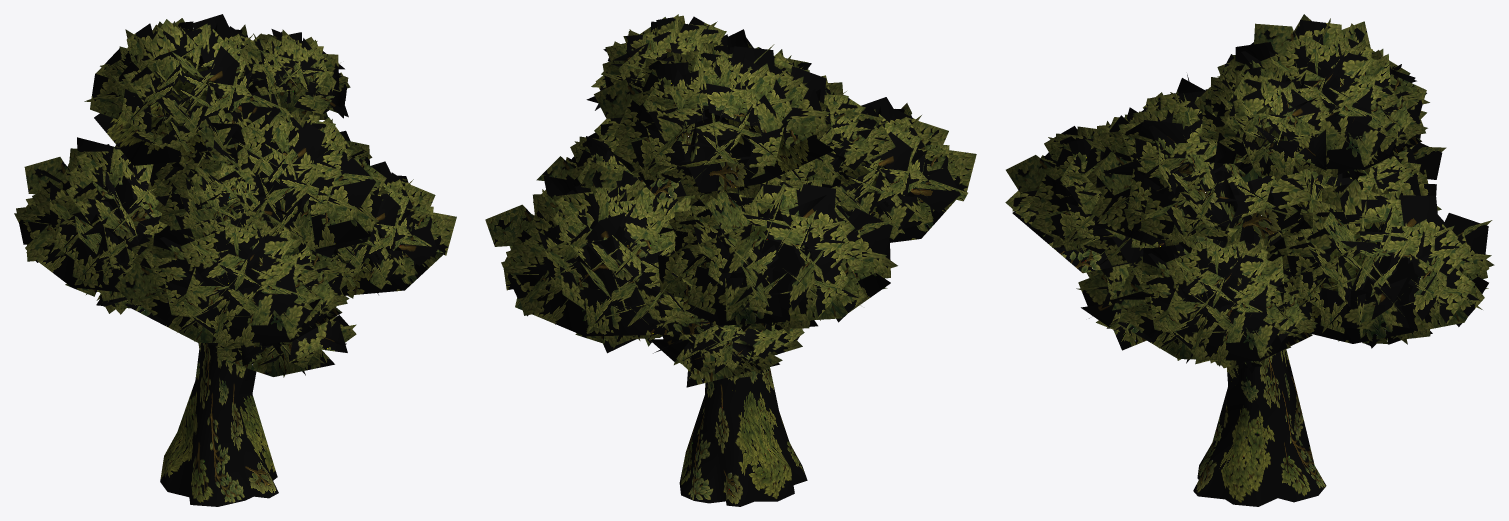
Rendered from tree.glb.
3 renders of one model, left to right at view 1: azimuth 30°, elevation 25°; view 2: azimuth 150°, elevation 25°; view 3: azimuth 270°, elevation 25°, orthographic. The views are drawn at different scales.
Parts seen in each view (by area): view 1: tree_1_LOD1; view 2: tree_1_LOD1; view 3: tree_1_LOD1.
Part boxes in pixels (x1,y1,x2,y2): tree_1_LOD1: [14, 14, 456, 506]; tree_1_LOD1: [485, 14, 976, 506]; tree_1_LOD1: [1005, 14, 1494, 506].
Size of the model in its own units: 13.8 by 16.13 by 15.62.
Materials: 1 (1 with a texture image).
